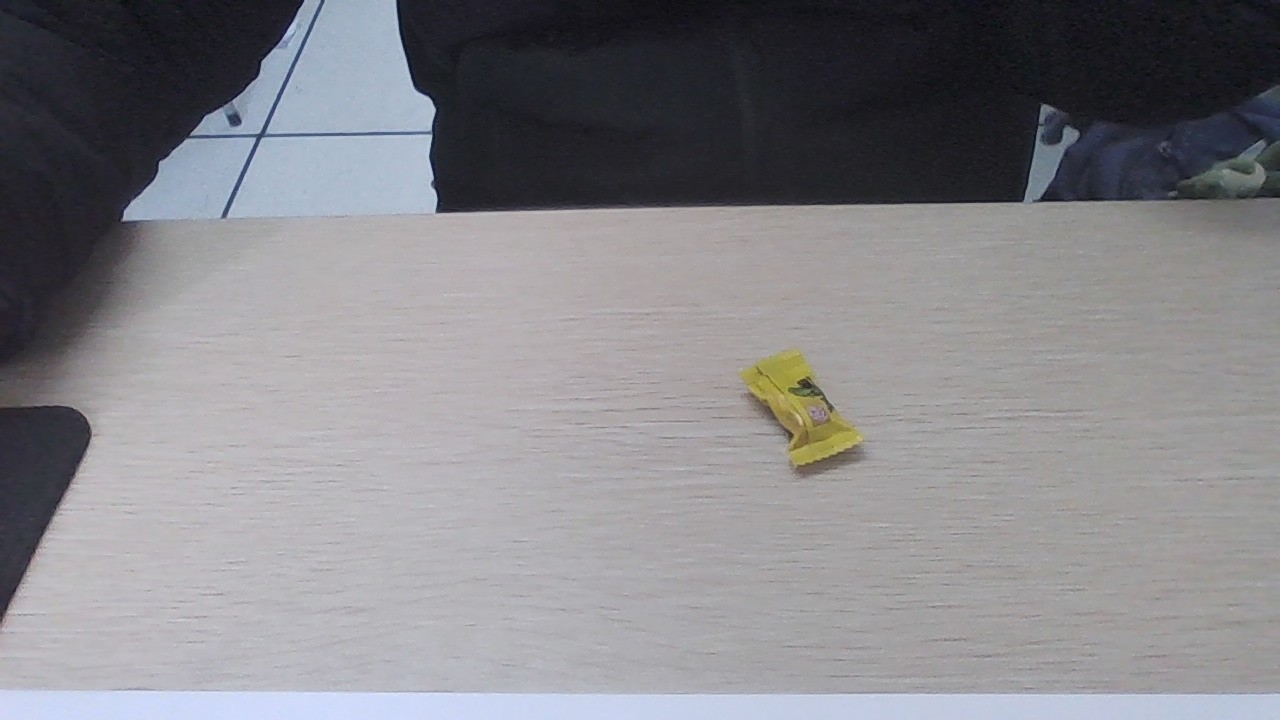CY-sugar: (744, 364, 864, 466)
